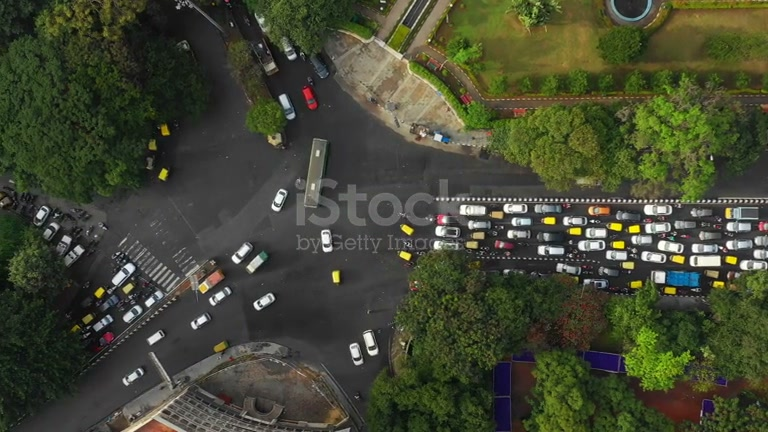car: (132, 341, 358, 430), (32, 205, 51, 226), (271, 188, 287, 212)
